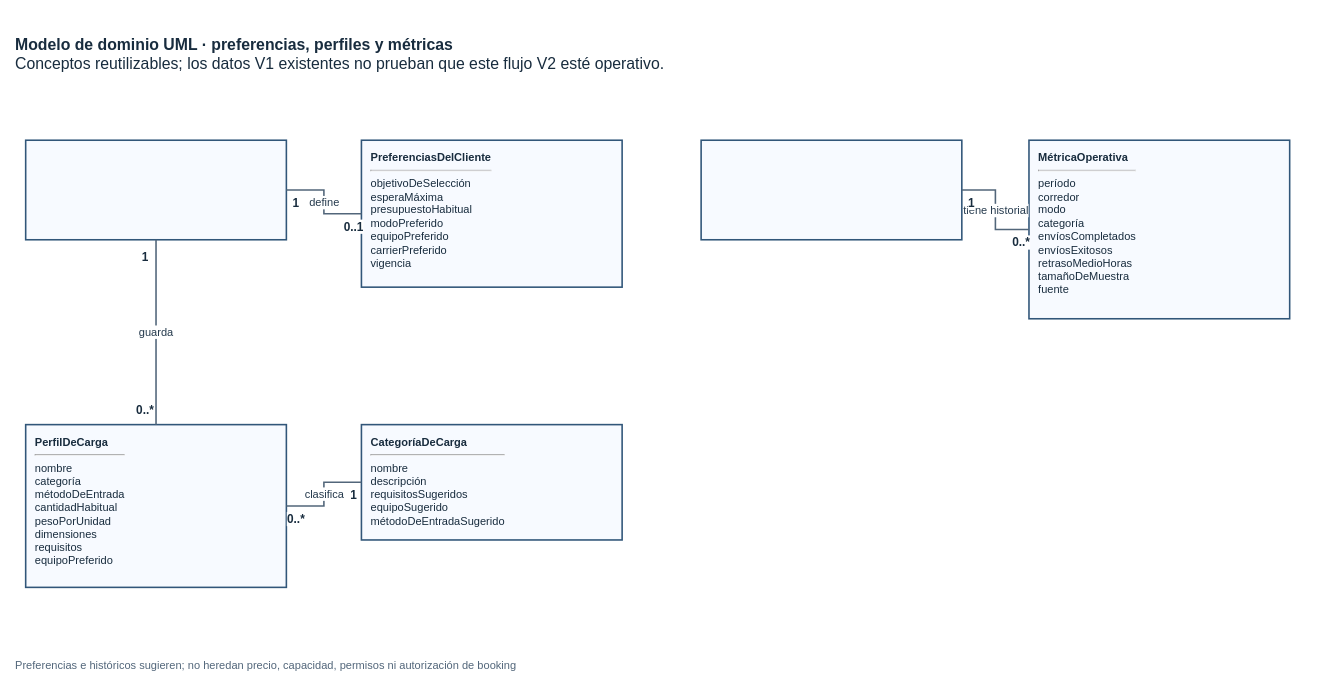
Some shapes in this 1338 by 690 pixel diagram are drawn without their labels. The box of each missing label's shape, as (x1, y1, x2, y2) in pixels:
Carrier referencia página 2 nombreComercial tipoDeOperador estado: (700, 139, 962, 240)
Organización referencia página 1 nombreComercial segmentoCliente monedaBase: (24, 139, 287, 240)
